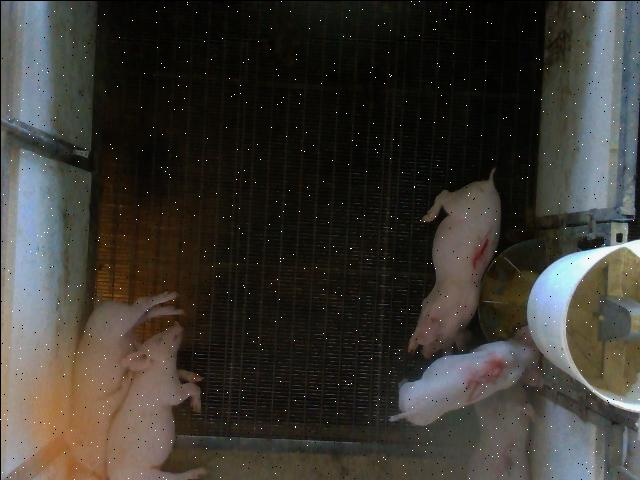pig-1: (408, 168, 500, 358)
pig-3: (466, 380, 532, 478)
pig-5: (389, 327, 539, 424)
